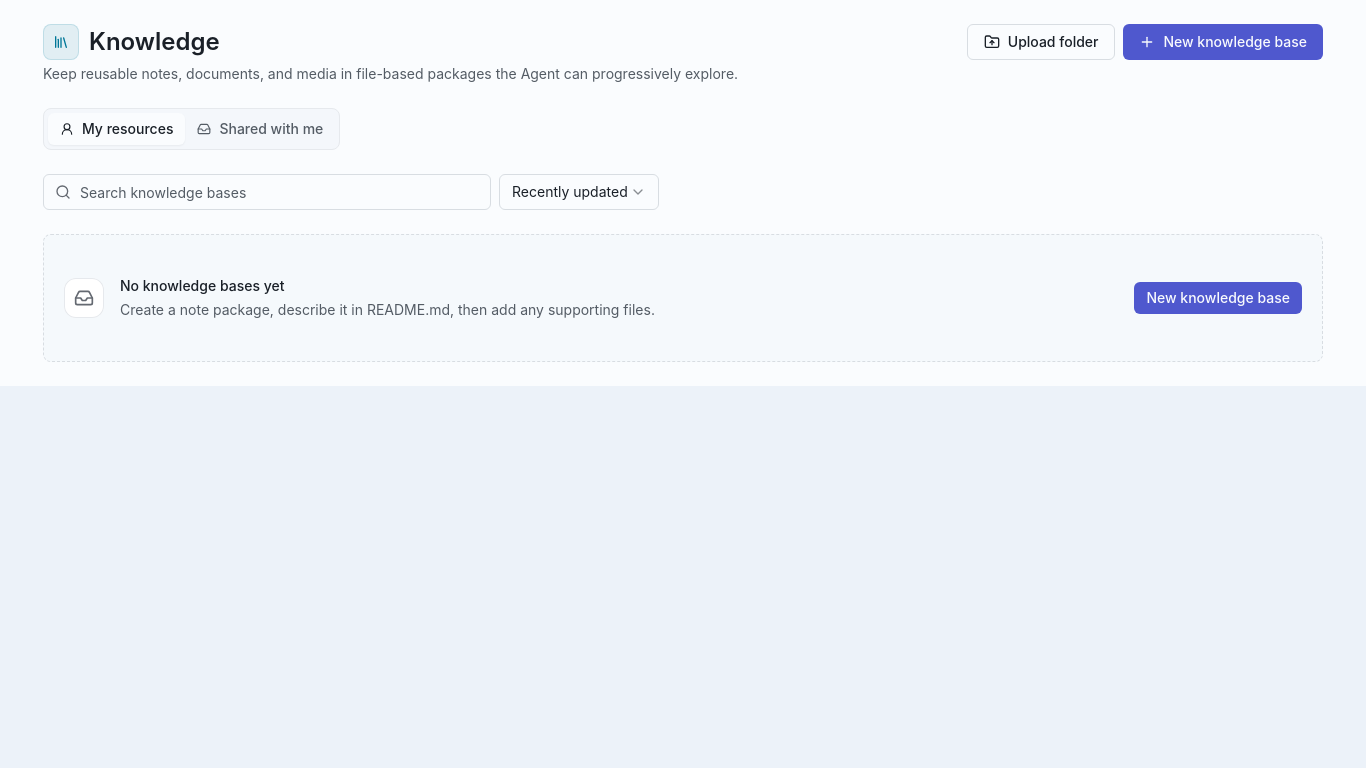
Test: Knowledge pages › offers complete folder and ZIP imports from the knowledge list
Click the button "Upload folder". click: [1041, 42]
box: [967,24,1116,60]
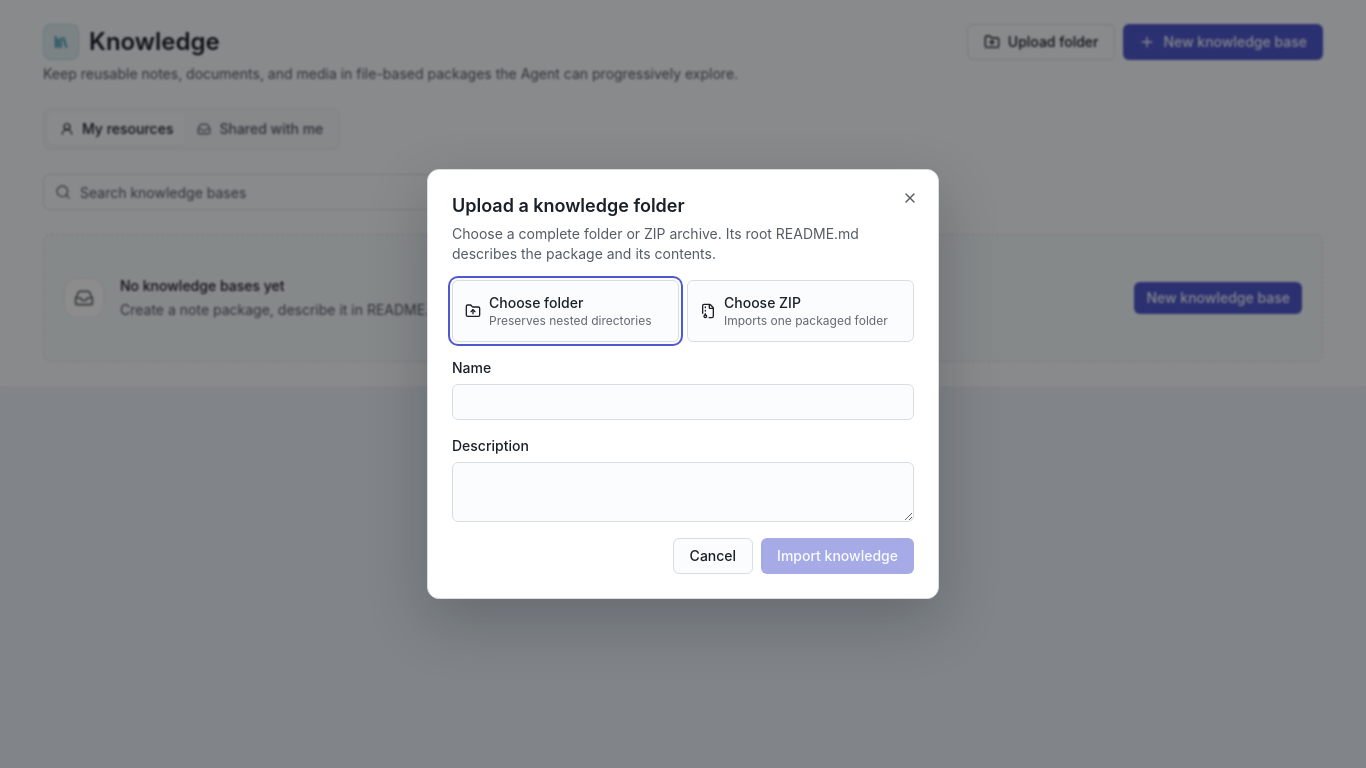
expect the dialog "Upload a knowledge folder" is shown: met, box [427,169,939,599]
expect the button "Choose folder Preserves nested directories" is shown: met, box [452,280,679,342]
expect the button "Choose ZIP Imports one packaged folder" is shown: met, box [687,280,914,342]
